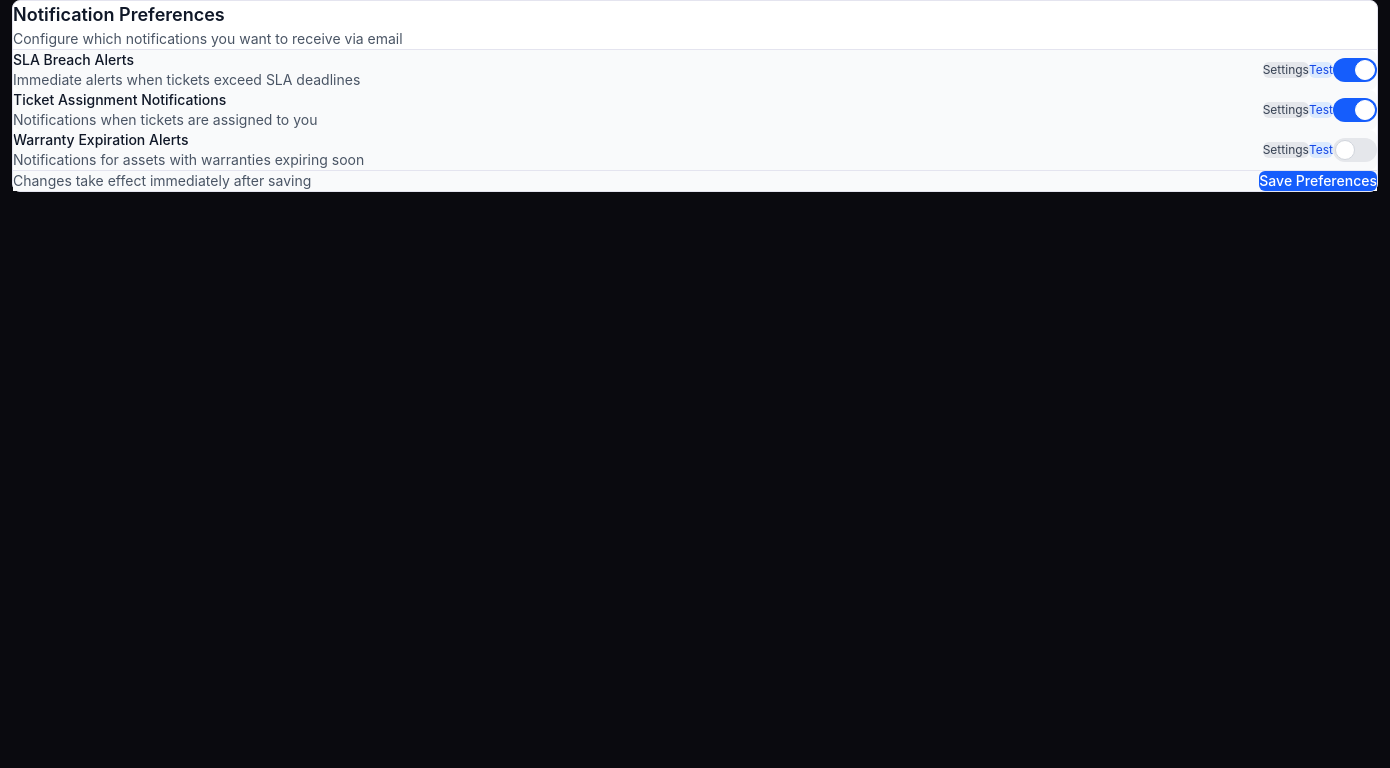
Test case: NotificationPreferences › shows digest option for daily/weekly frequencies
The image size is (1390, 768).
# First enable the warranty notification (it's disabled by default)
Click the checkbox named "Enable Warranty Expiration Alerts" at (1355,150), box top-left (1333, 138), bottom-right (1377, 162)
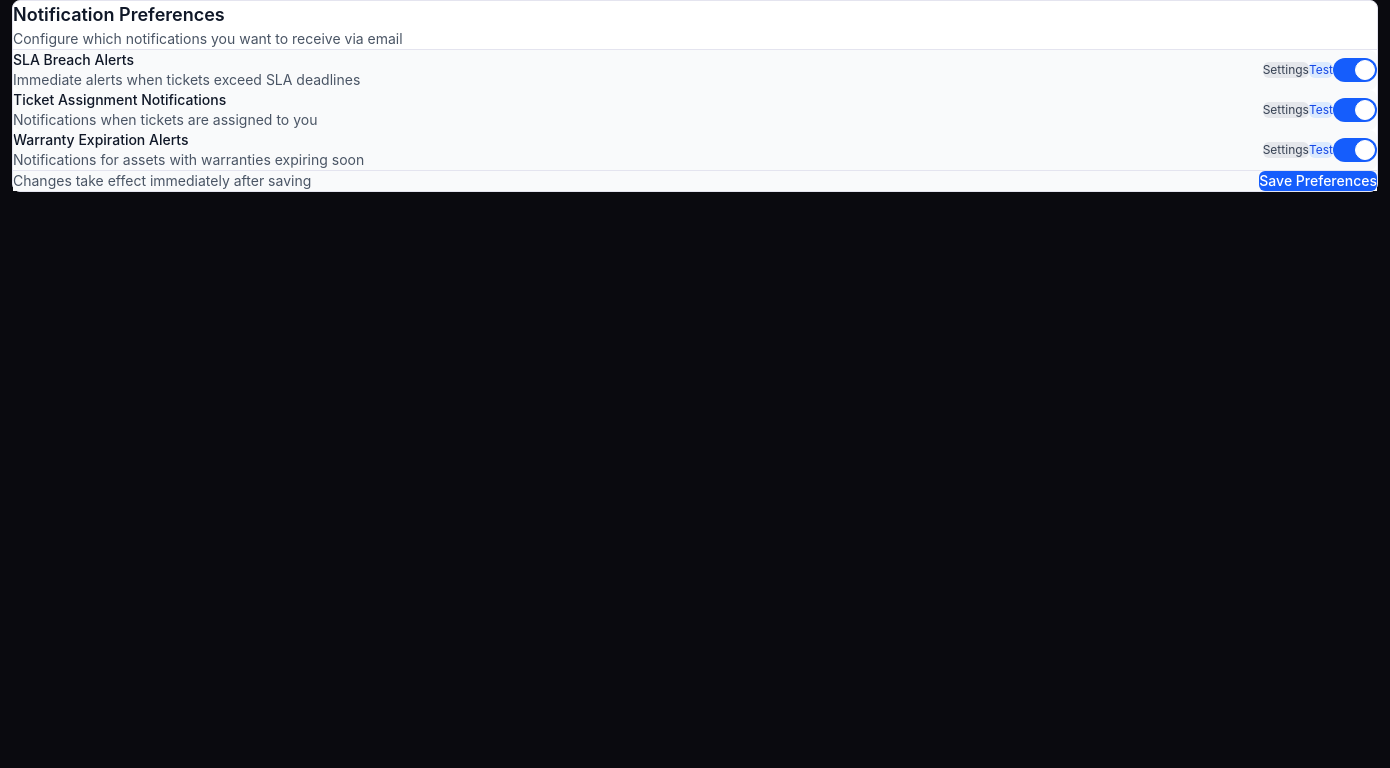
# Then expand settings
Click the button "Settings" in the row of "Warranty Expiration Alerts" at (1286,150), box top-left (1263, 142), bottom-right (1309, 158)
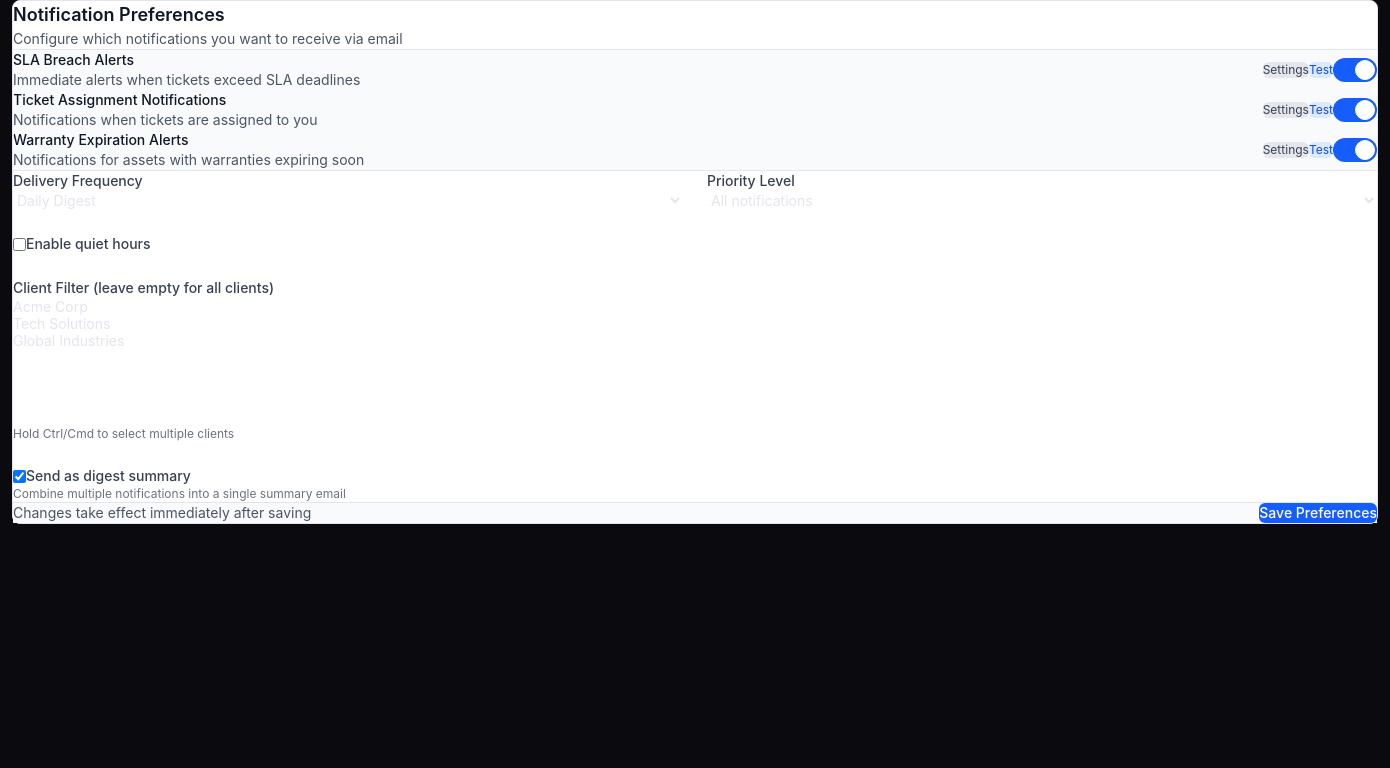
Result: the checkbox labelled "Send as digest summary" is checked at top-left (13, 470), bottom-right (26, 482)
